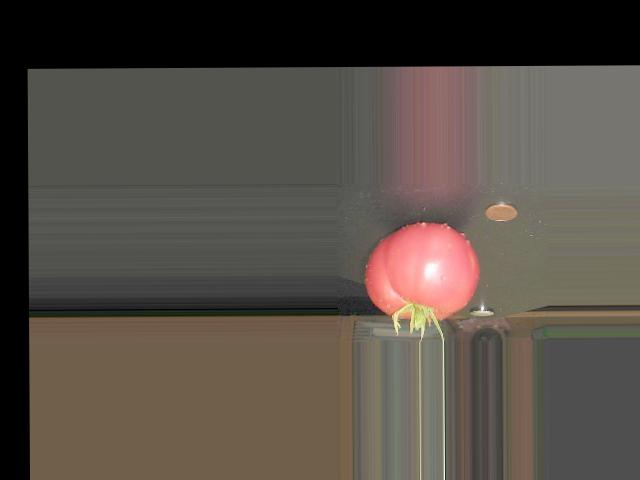tomato: (363, 221, 479, 320)
